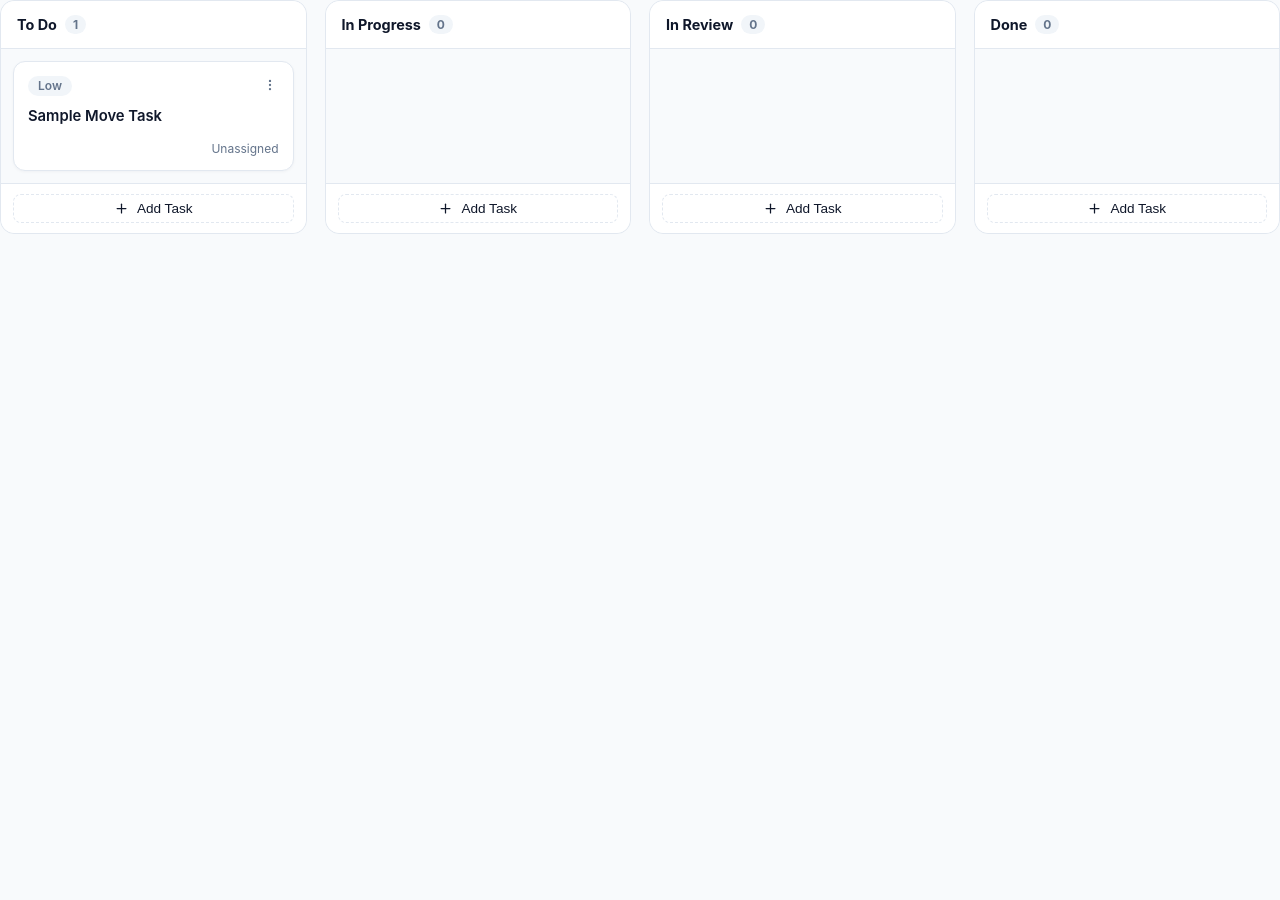
Test: KanbanBoard Move & Rollback › reloads the board after a 409 conflict
Click the button named "Move task": point(270, 85) [260,76,278,94]
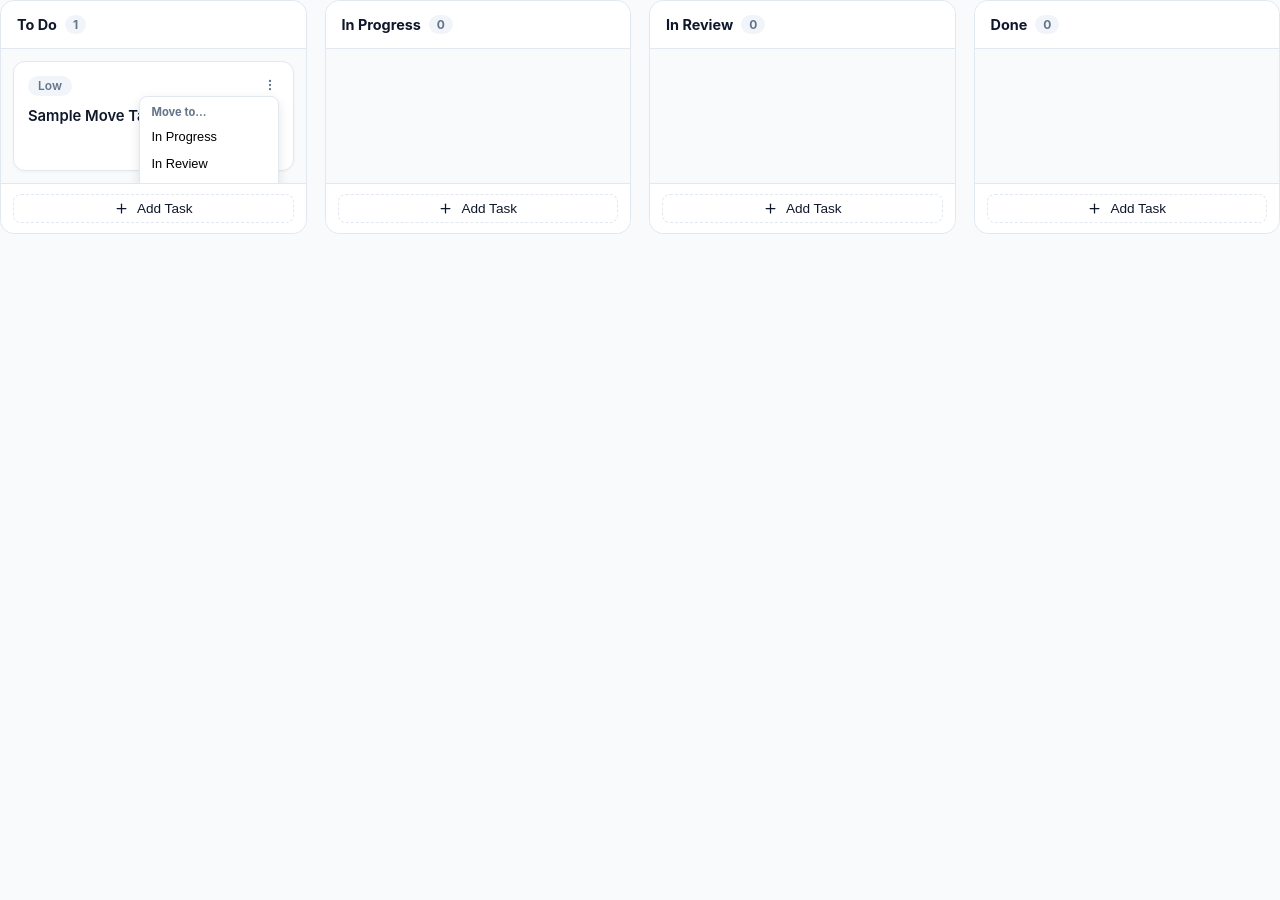
Click the button "In Progress": point(208, 136) [144,123,274,150]
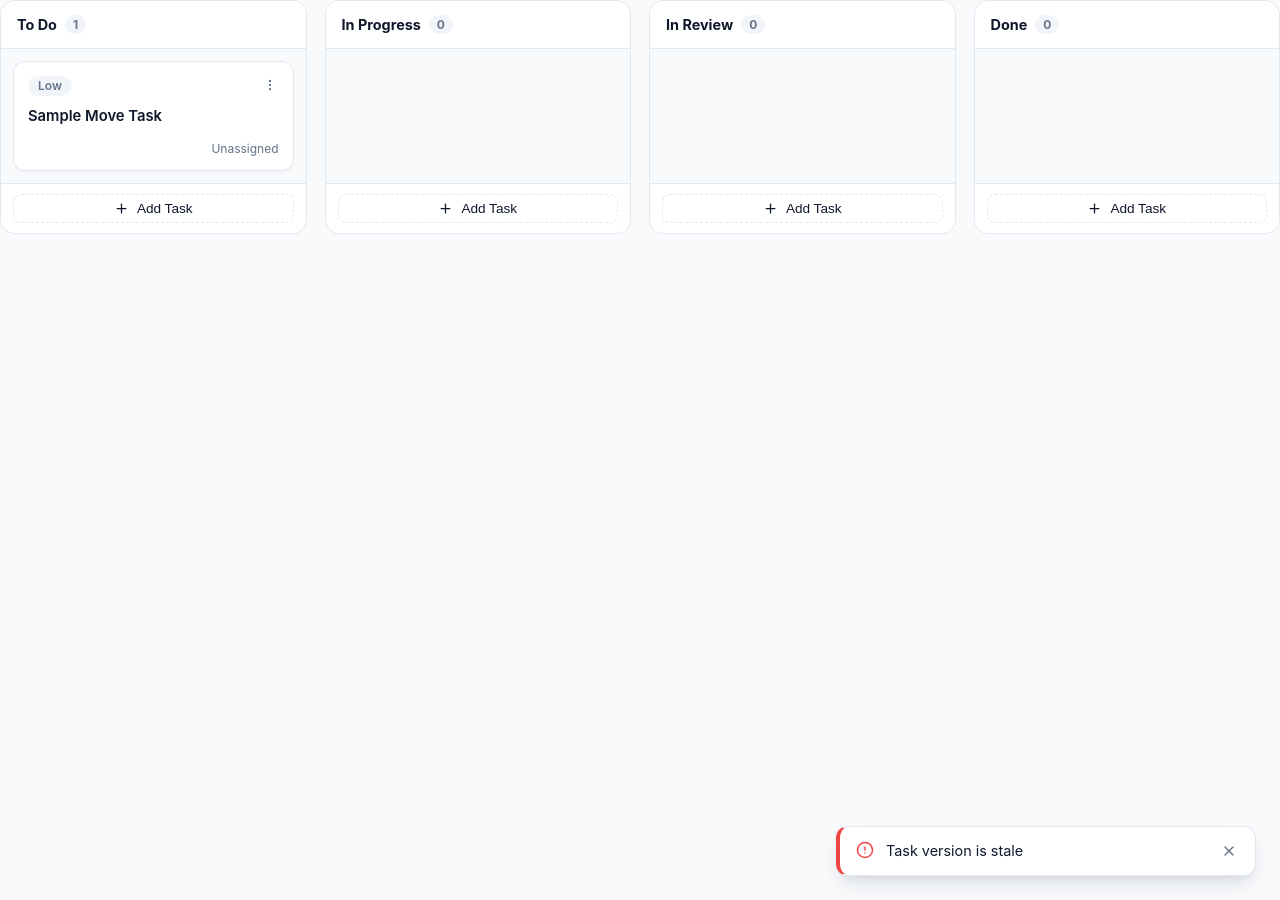
Check: the text "Task version is stale" is shown, box [886,842,1023,859]
